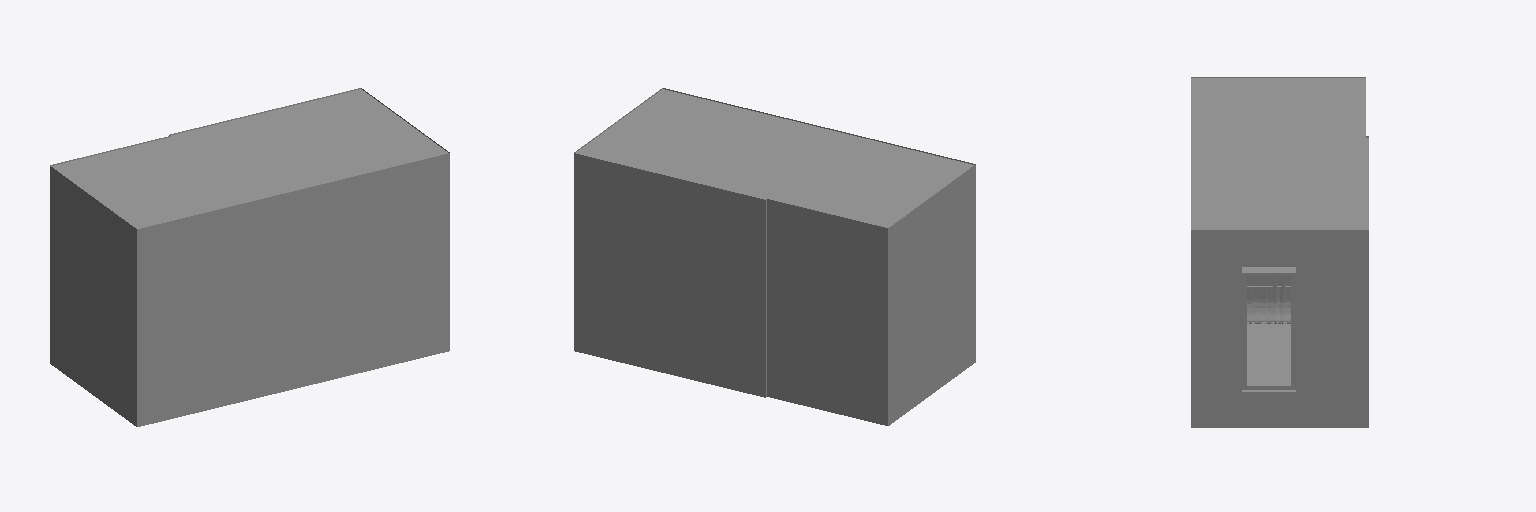
File: bathroom3_layout.obj
The picture shows the model from 3 angles: view 1: azimuth 30°, elevation 25°; view 2: azimuth 150°, elevation 25°; view 3: azimuth 270°, elevation 25°; orthographic projection.
Parts seen in each view (by area): view 1: wall.005, ceiling.002; view 2: wall.005, ceiling.002; view 3: wall.005, ceiling.002, floor.002, blinds.001, window.002.
Boxes of the visible parts, x1,y1,x2,y2 form: wall.005: [50, 88, 449, 426]; ceiling.002: [51, 89, 447, 228]; wall.005: [574, 88, 975, 425]; ceiling.002: [574, 89, 973, 227]; wall.005: [1191, 77, 1368, 427]; ceiling.002: [1191, 78, 1368, 253]; floor.002: [1247, 324, 1290, 383]; blinds.001: [1247, 276, 1290, 323]; window.002: [1242, 269, 1295, 389].
Size of the model in its own units: 4.83 by 2.8 by 2.28.